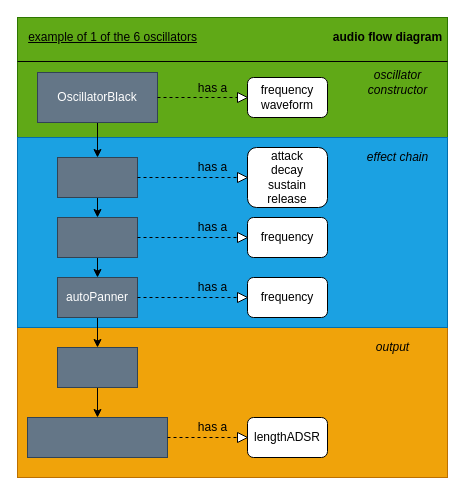
This 466x495 diagram has some shape labels left out. Each missing label, with the centre of its shape:
"ADSR" goes at point 97,177.
"autoFilter" goes at point 97,237.
"Master" goes at point 97,367.
"triggerAttackRelease" goes at point 97,437.
